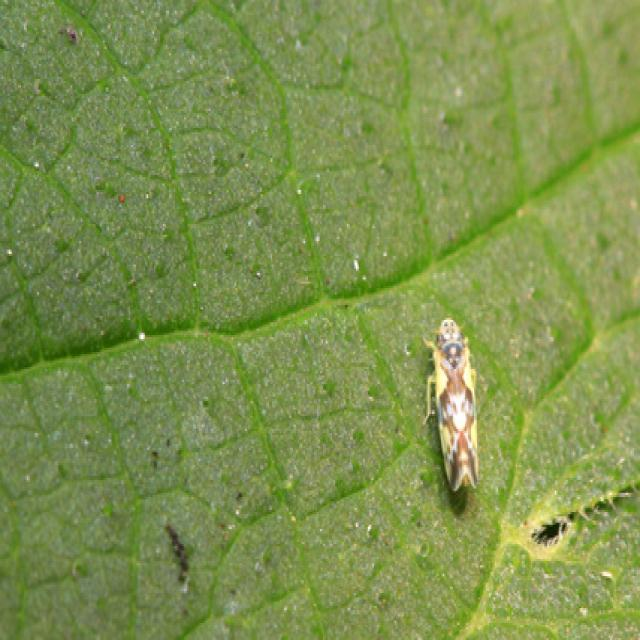Yechan: (424, 313, 482, 492)
